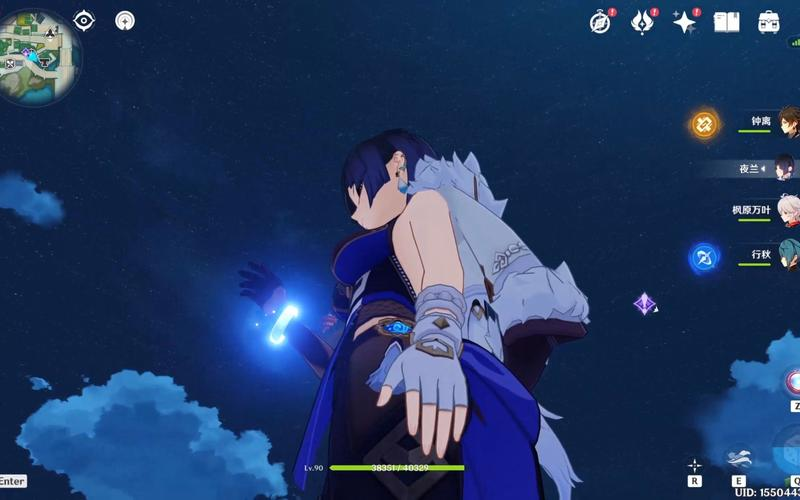夜兰: (240, 131, 544, 500)
